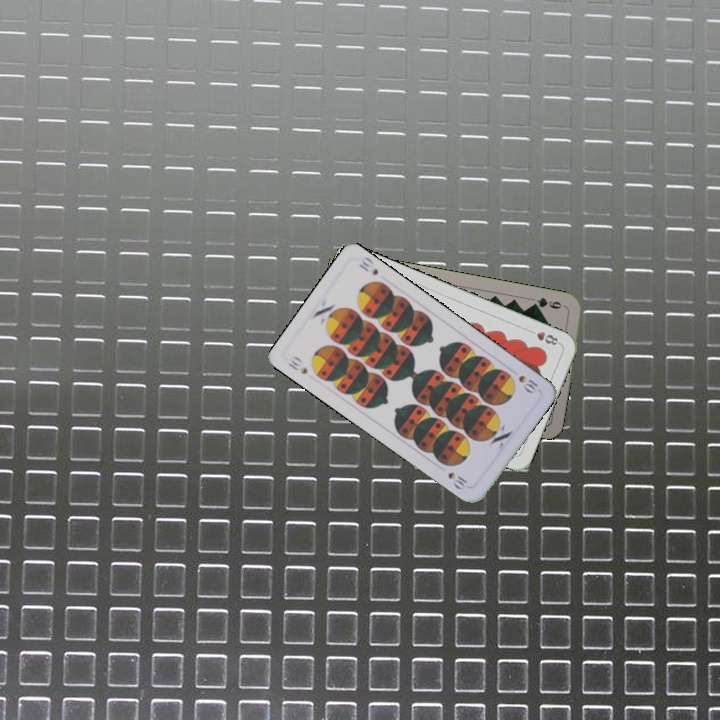G9: (528, 293, 564, 312)
H8: (524, 326, 563, 348)
S10: (514, 371, 541, 397), (284, 352, 310, 377)
